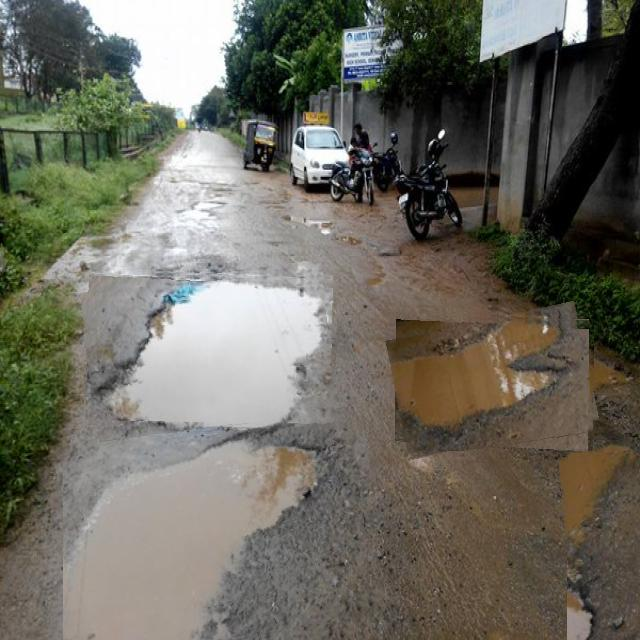Pothole: (63, 420, 380, 640), (84, 267, 338, 433), (391, 310, 594, 451), (563, 451, 640, 640)
